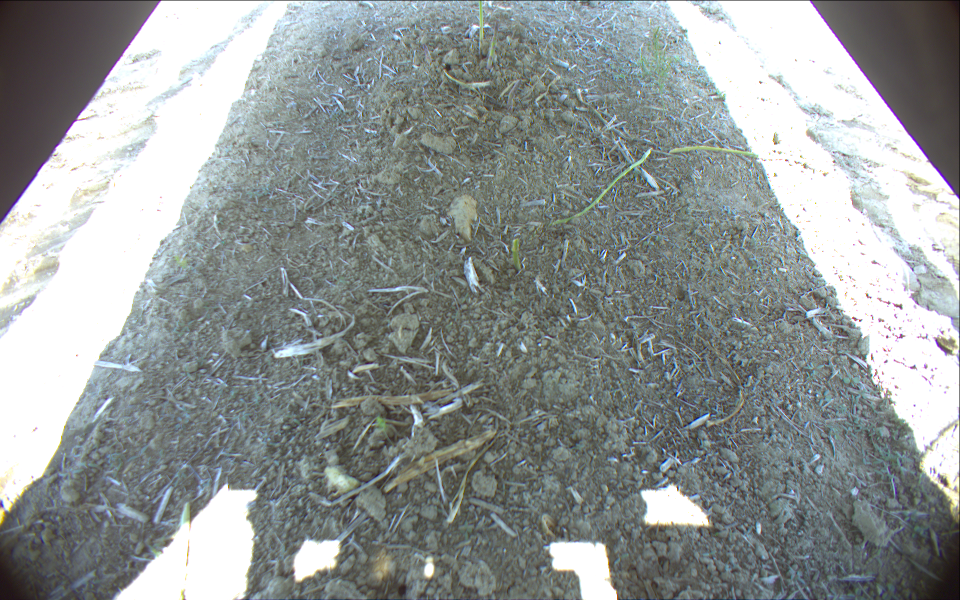aspa: (552, 145, 655, 225), (575, 87, 635, 143), (669, 145, 816, 167), (177, 503, 192, 600), (488, 22, 500, 69), (507, 76, 523, 110), (478, 1, 484, 54), (512, 237, 520, 271), (421, 43, 431, 63)
